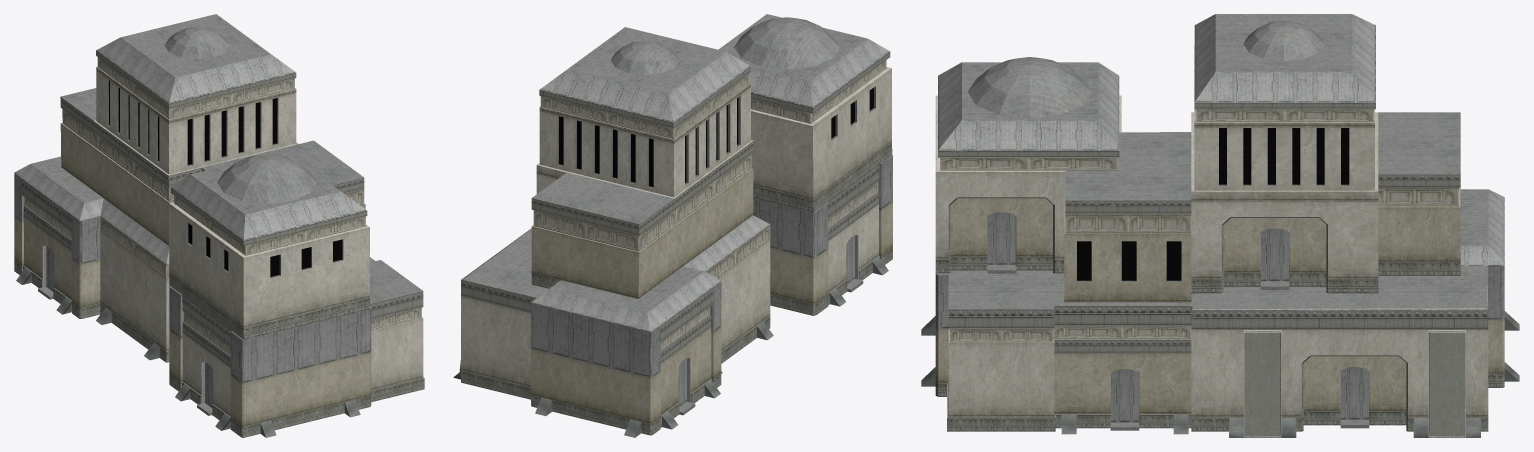
File: thm_corl_imprv_historic_32x16_s02_l0.fbx
3 renders of one model, left to right at view 1: azimuth 30°, elevation 25°; view 2: azimuth 150°, elevation 25°; view 3: azimuth 270°, elevation 25°, orthographic. The views are drawn at different scales.
Parts seen in each view (by area): view 1: mesh_node; view 2: mesh_node; view 3: mesh_node.
Part boxes in pixels (bbox=[...]): mesh_node: bbox=[14, 14, 424, 437]; mesh_node: bbox=[453, 14, 892, 437]; mesh_node: bbox=[921, 14, 1519, 437].
Size of the model in its own units: 15.81 by 20.71 by 32.
